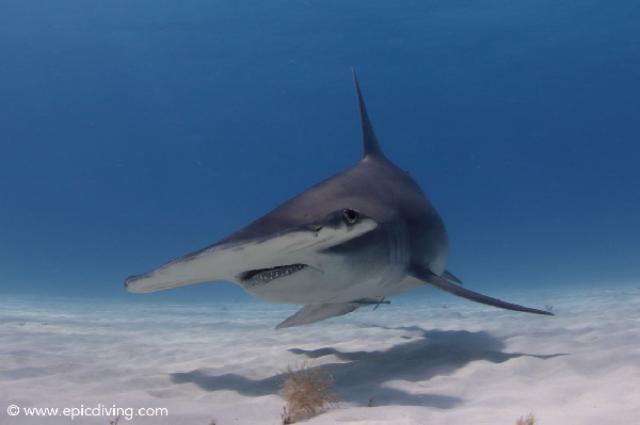Mulut: (226, 251, 320, 308)
Sirip Dada: (393, 252, 572, 336), (263, 292, 371, 342)
Sirip Punggung: (335, 57, 401, 176)
